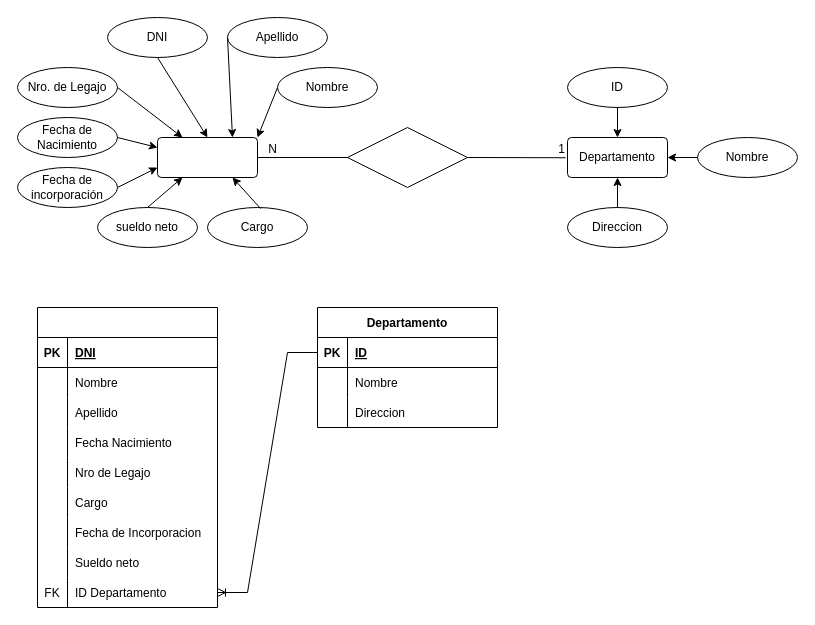
The diagram is 815 pixels wide and 625 high, and some of its shapes have lost their labels. Each missing label, with the box of its shape:
Empleado: (36, 306, 218, 608)
Empleados: (156, 136, 258, 178)
Sección de Trabajo: (346, 126, 468, 188)
